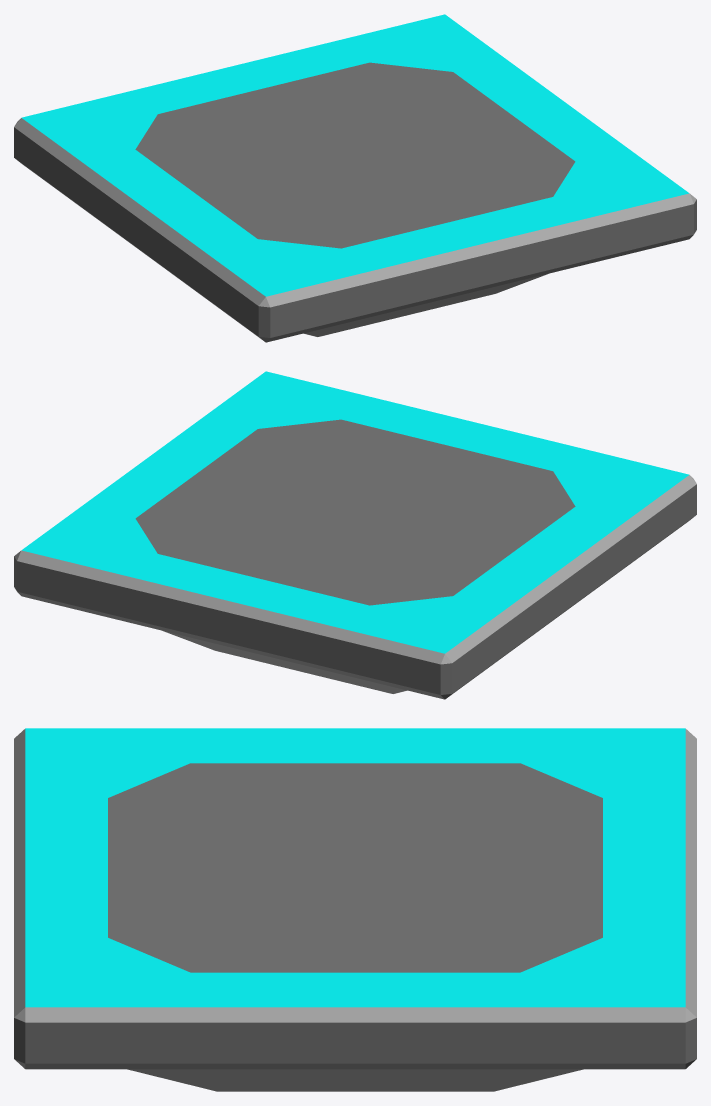
The model's file is platform_01.fbx.
The picture shows the model from 3 angles, top to bottom: view 1: azimuth 30°, elevation 25°; view 2: azimuth 150°, elevation 25°; view 3: azimuth 270°, elevation 25°; orthographic projection. The views are drawn at different scales.
Parts seen in each view (by area): view 1: platform_01; view 2: platform_01; view 3: platform_01.
Part boxes in pixels (box(x1,y1,x2,y2)): platform_01: box(14, 14, 696, 342); platform_01: box(14, 371, 696, 699); platform_01: box(14, 728, 696, 1091).
Size of the model in its own units: 600 by 160 by 600.
